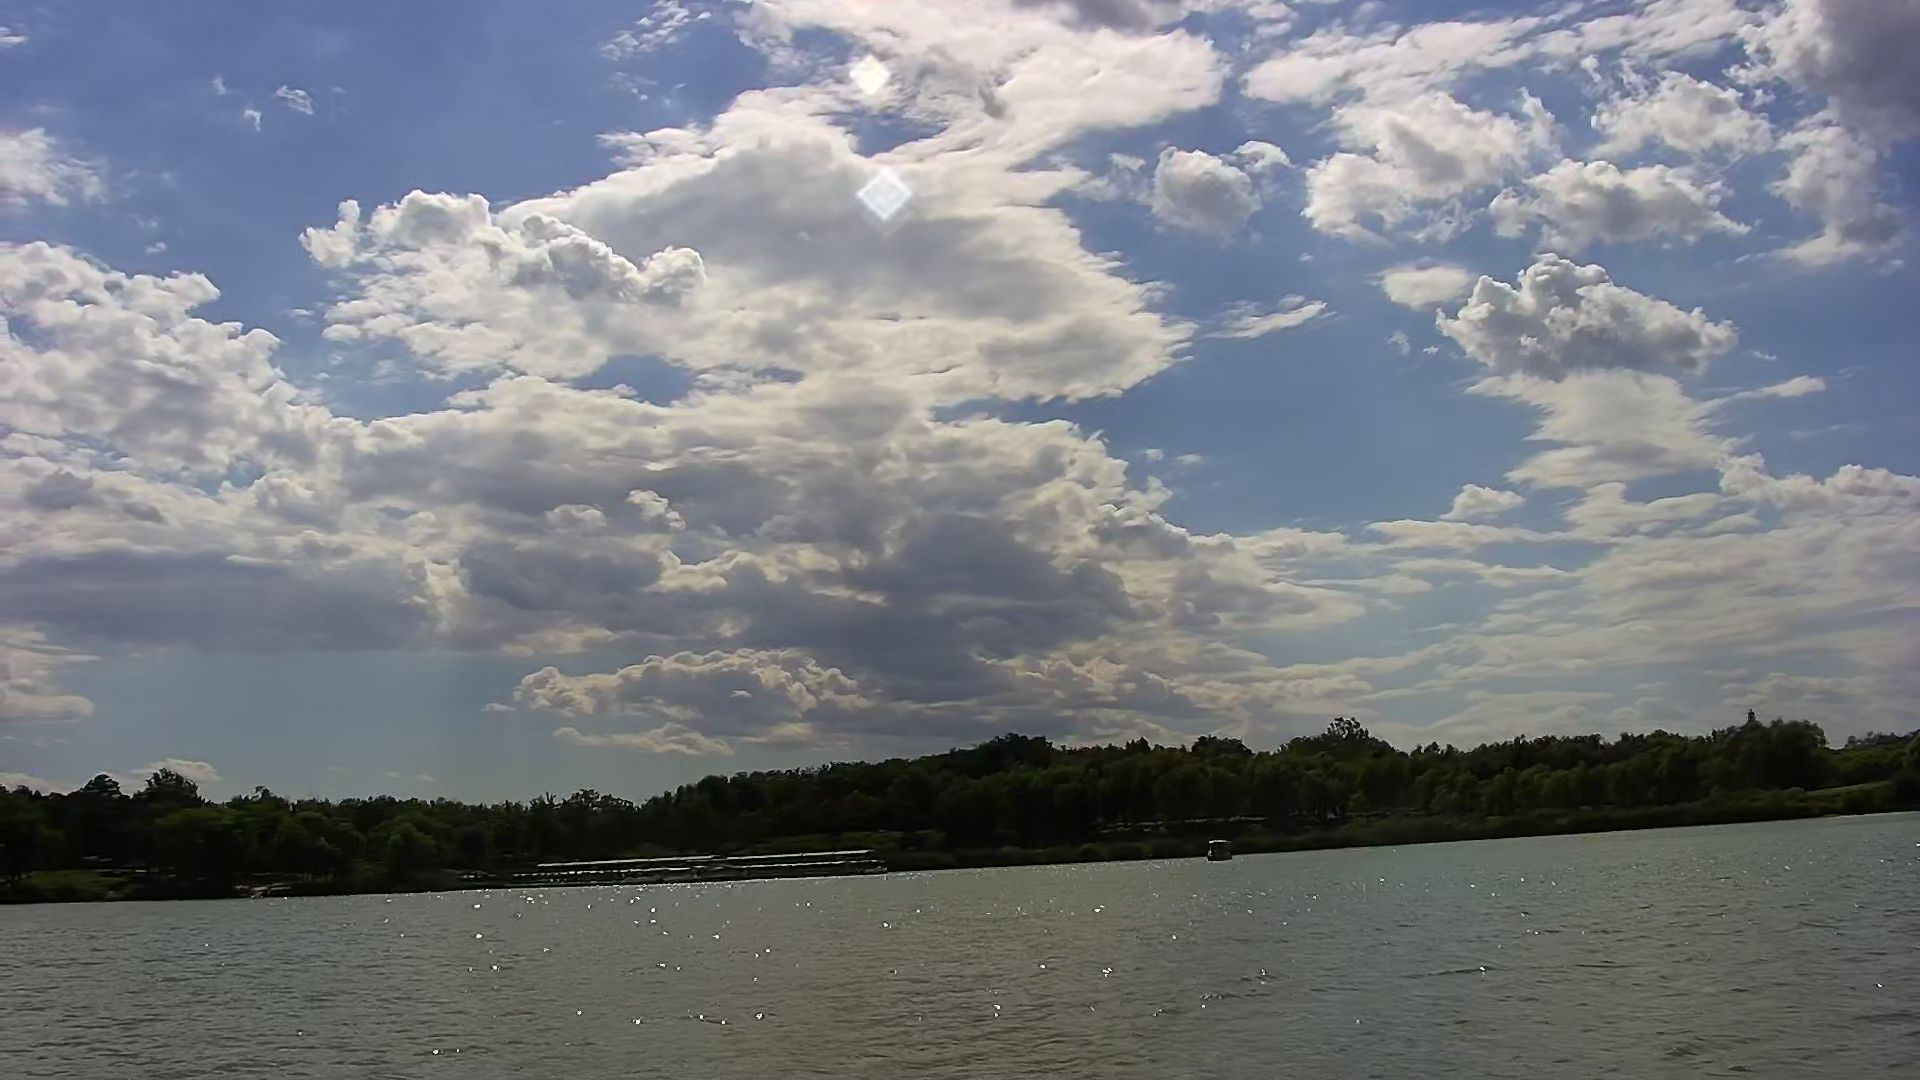boat: (1207, 833, 1237, 866)
harbor: (521, 851, 893, 891)
